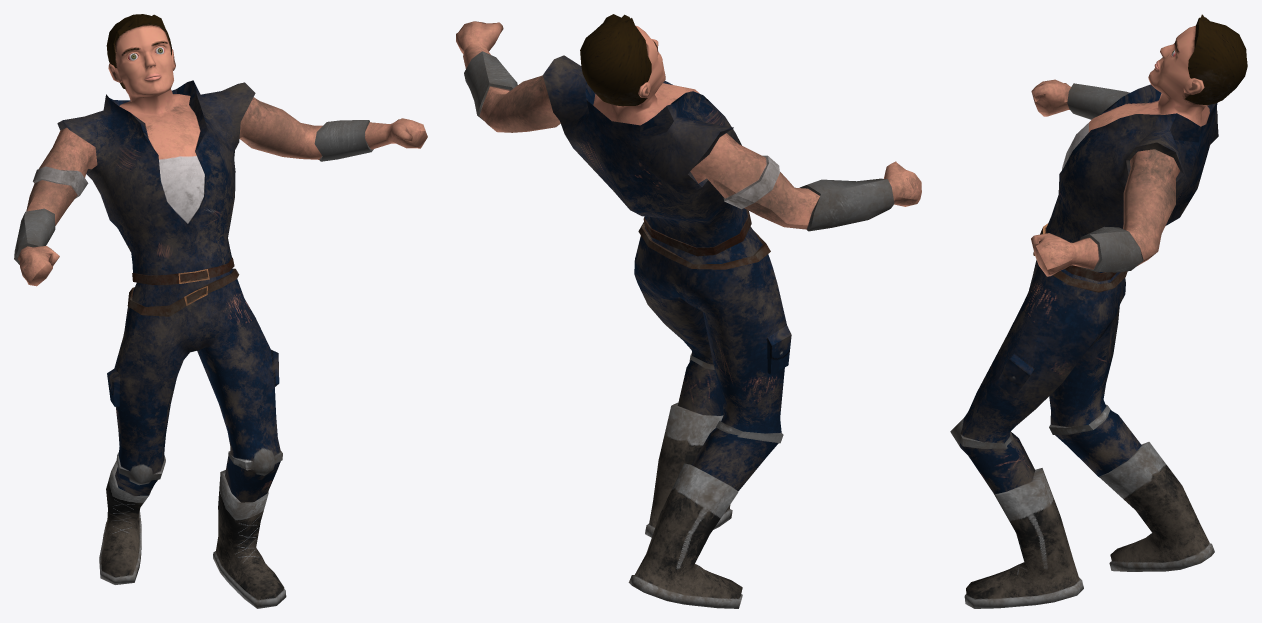
File: Anim_recibirdanyo_jugador.0018.obj
3 views of the same model, side by side, from view 1: azimuth 30°, elevation 25°; view 2: azimuth 150°, elevation 25°; view 3: azimuth 270°, elevation 25° (orthographic). The views are drawn at different scales.
Parts seen in each view (by area): view 1: polySurface1; view 2: polySurface1; view 3: polySurface1.
Part boxes in pixels (<box>): polySurface1: <box>14,14,427,608</box>; polySurface1: <box>456,14,921,608</box>; polySurface1: <box>950,14,1247,608</box>.
Bounding box in the file's own units: 7.19 × 8.94 × 4.15.
